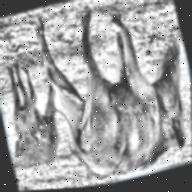boar: (26, 0, 192, 190)
